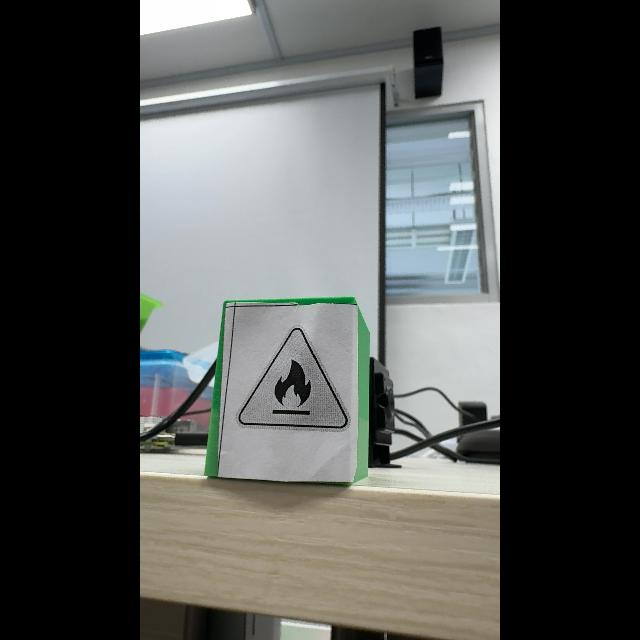Fire: (237, 327, 350, 432)
